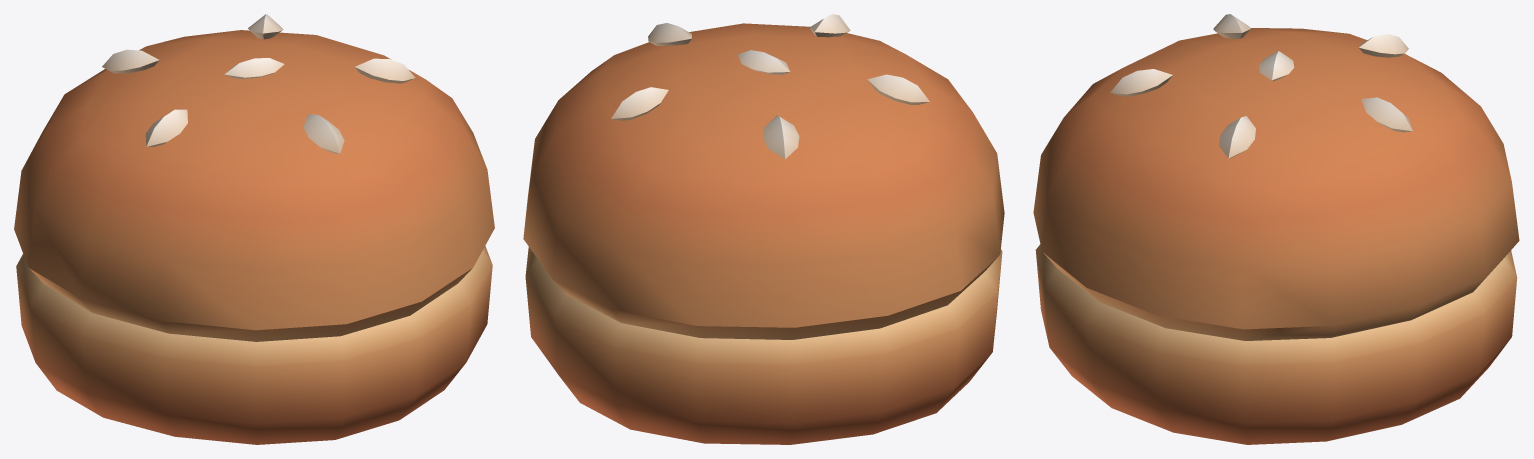
Rendered from bun.fbx.
3 views of the same model, side by side, from view 1: azimuth 30°, elevation 25°; view 2: azimuth 150°, elevation 25°; view 3: azimuth 270°, elevation 25° (orthographic). The views are drawn at different scales.
Visible parts, largest first — view 1: bun; view 2: bun; view 3: bun.
Part boxes in pixels (x1,y1,x2,y2): bun: [14, 14, 494, 444]; bun: [523, 14, 1004, 444]; bun: [1033, 14, 1519, 444].
Bounding box in the file's own units: 0.7131 × 0.5072 × 0.7131.
